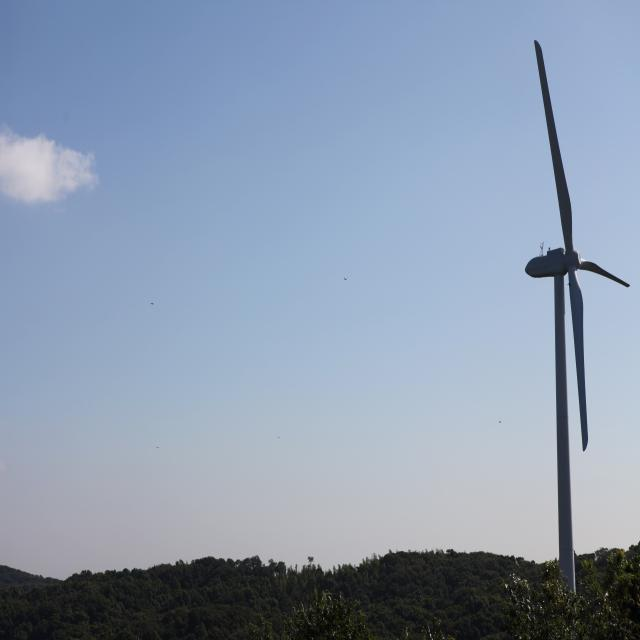bird: (496, 416, 504, 427), (276, 434, 284, 444), (148, 299, 158, 306), (341, 276, 352, 282), (155, 443, 162, 450)
